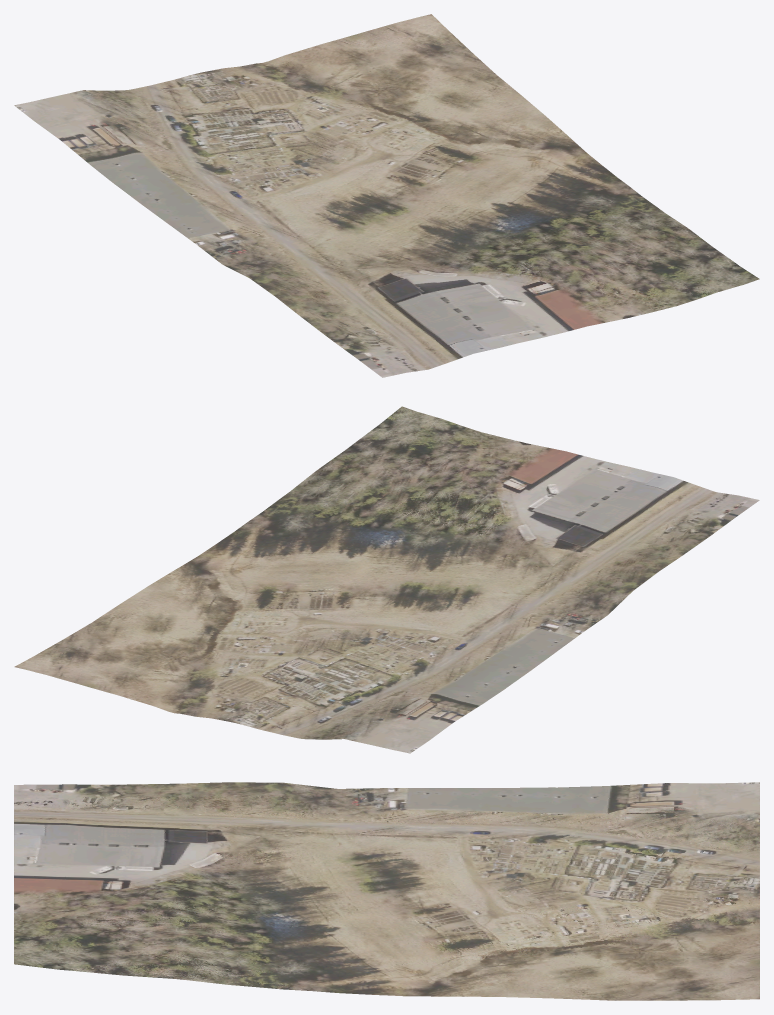
Rendered from CM_Terrain_24493940_6815493.fbx.
The picture shows the model from 3 angles, top to bottom: view 1: azimuth 30°, elevation 25°; view 2: azimuth 150°, elevation 25°; view 3: azimuth 270°, elevation 25°; orthographic projection. The views are drawn at different scales.
Visible parts, largest first — view 1: CM_Terrain_24493940_6815493_LOD0; view 2: CM_Terrain_24493940_6815493_LOD0; view 3: CM_Terrain_24493940_6815493_LOD0.
Boxes of the visible parts, left/top/right/bottom form: CM_Terrain_24493940_6815493_LOD0: left=14, top=14, right=759, bottom=377; CM_Terrain_24493940_6815493_LOD0: left=14, top=406, right=759, bottom=753; CM_Terrain_24493940_6815493_LOD0: left=14, top=782, right=759, bottom=1000.
Size of what is drawn, in the model's own units: 134 by 6.93 by 205.
